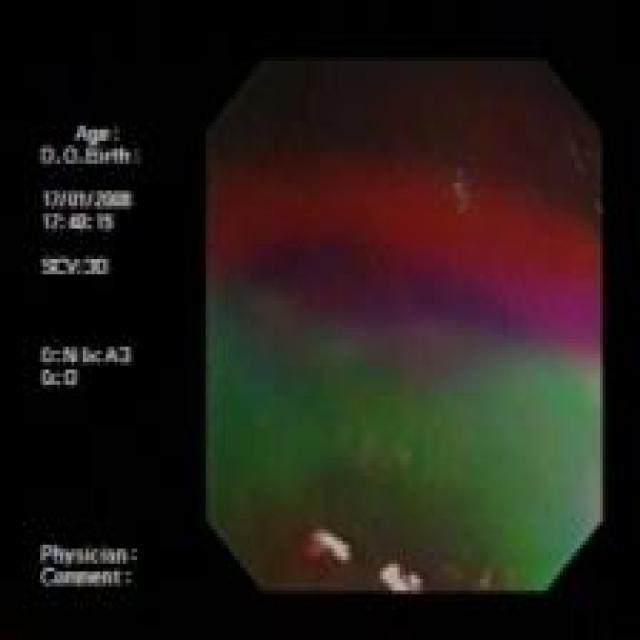color misalignment: (206, 59, 600, 591), (207, 153, 600, 591), (36, 120, 142, 597)
contrast: (206, 59, 598, 154)
specularity: (380, 562, 419, 592), (315, 527, 349, 560)
